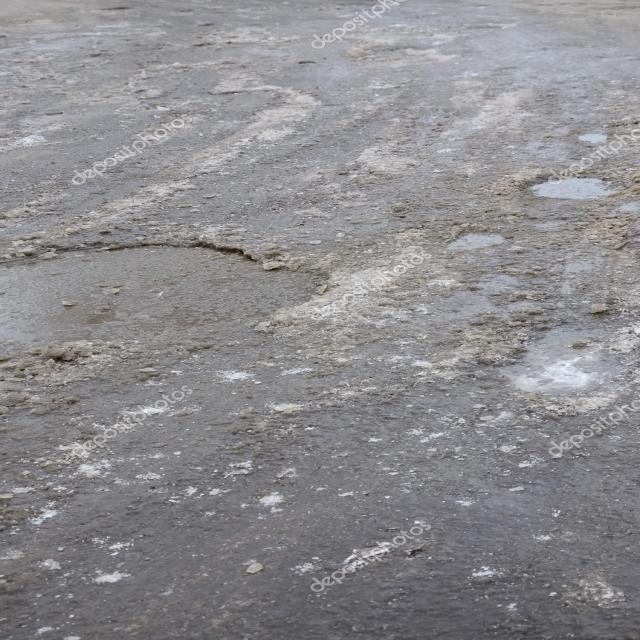pothole: (0, 232, 355, 390), (493, 150, 621, 232)
